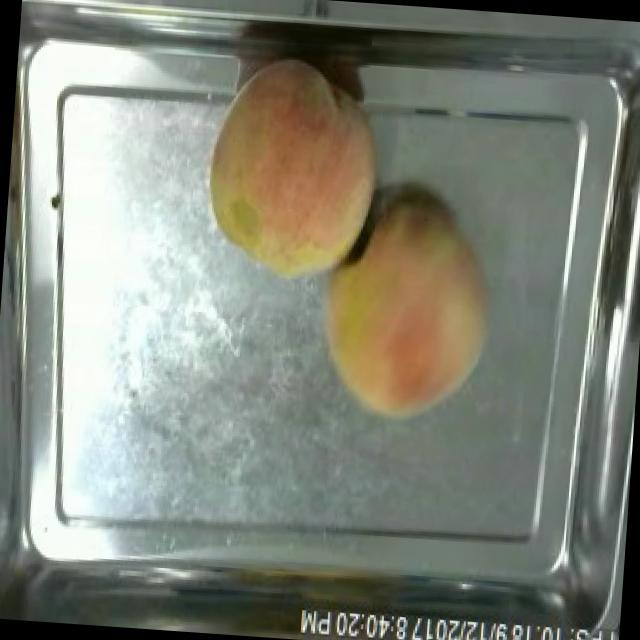Fruit: (192, 46, 394, 294), (305, 186, 507, 428)
